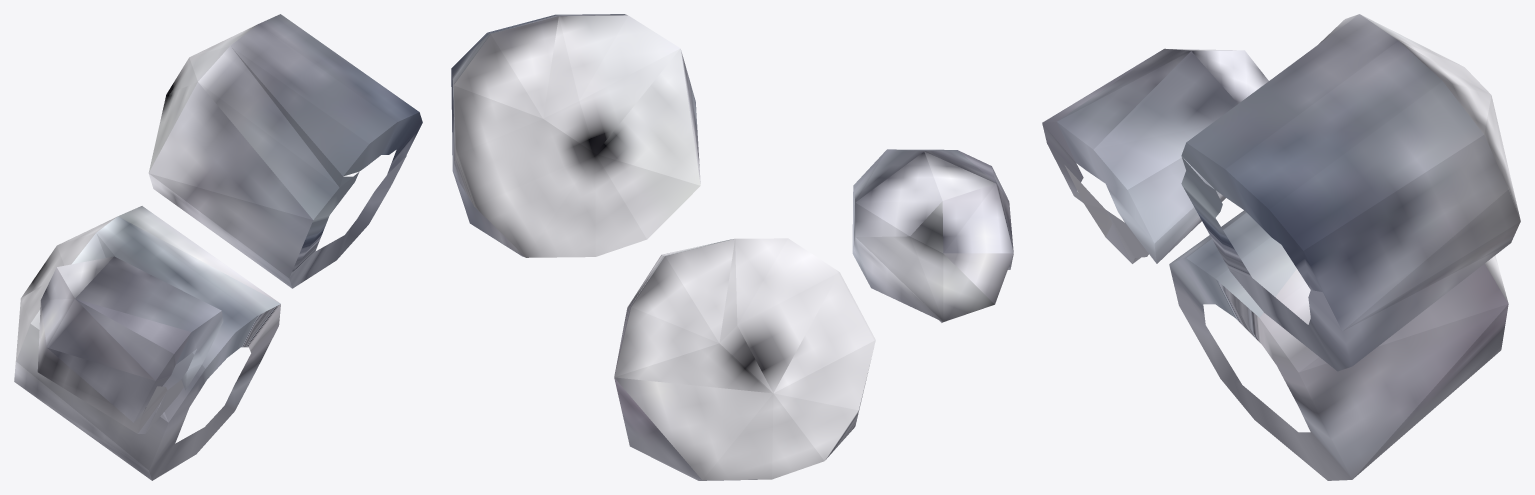
The model's file is UlRPVEYubm9kZWRhdGEucGxhbmV0b2lkPWVhcnRoLG5vZGVfZGF0YV9lcG9jaD05MTYscGF0aD0zMTQzNDE1MjYwNzM2MjcxNzQ0NSxjYWNoZV92ZXJzaW9uPTY.glb.
3 views of the same model, side by side, from view 1: azimuth 30°, elevation 25°; view 2: azimuth 150°, elevation 25°; view 3: azimuth 270°, elevation 25° (orthographic). The views are drawn at different scales.
Bounding box in the file's own units: 5.19 × 4.54 × 3.97.
1 material, 1 textured.
